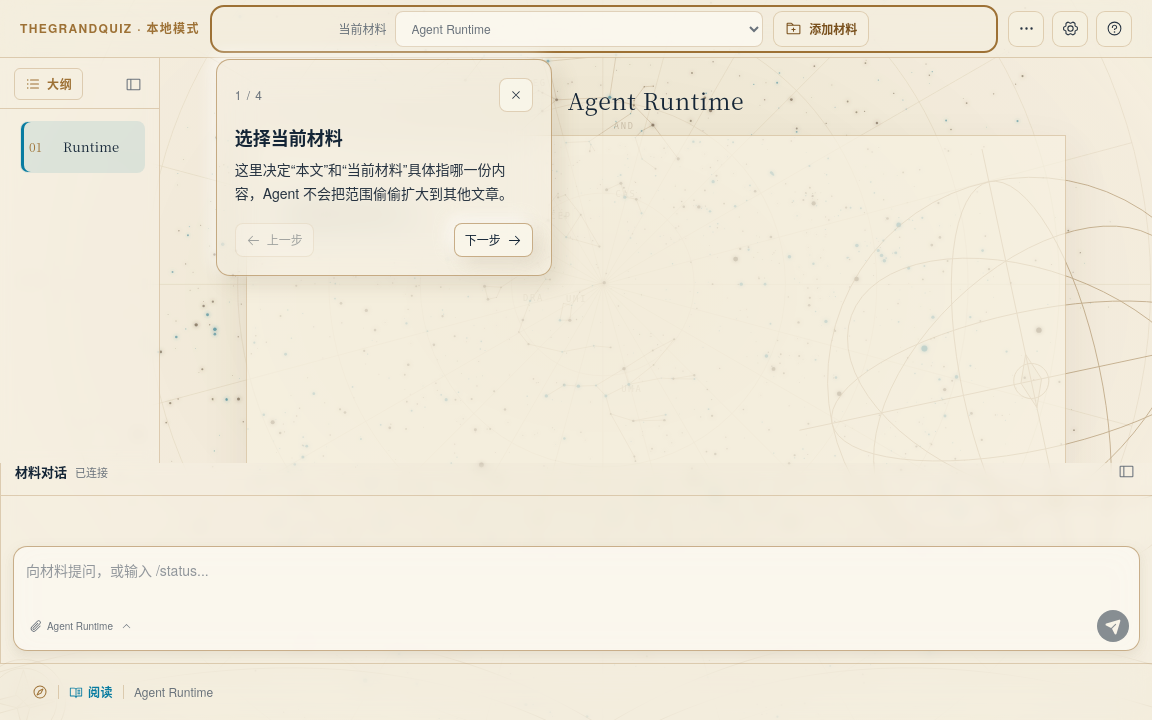
Sidebar context switching › opens the unified application settings from the top bar
(page scrolled)
expect the heading "Agent Runtime" is shown: met, box [568,83,744,117]
Click the button named "打开应用设置" at x=1070, y=28, box [1052,10,1088,46]
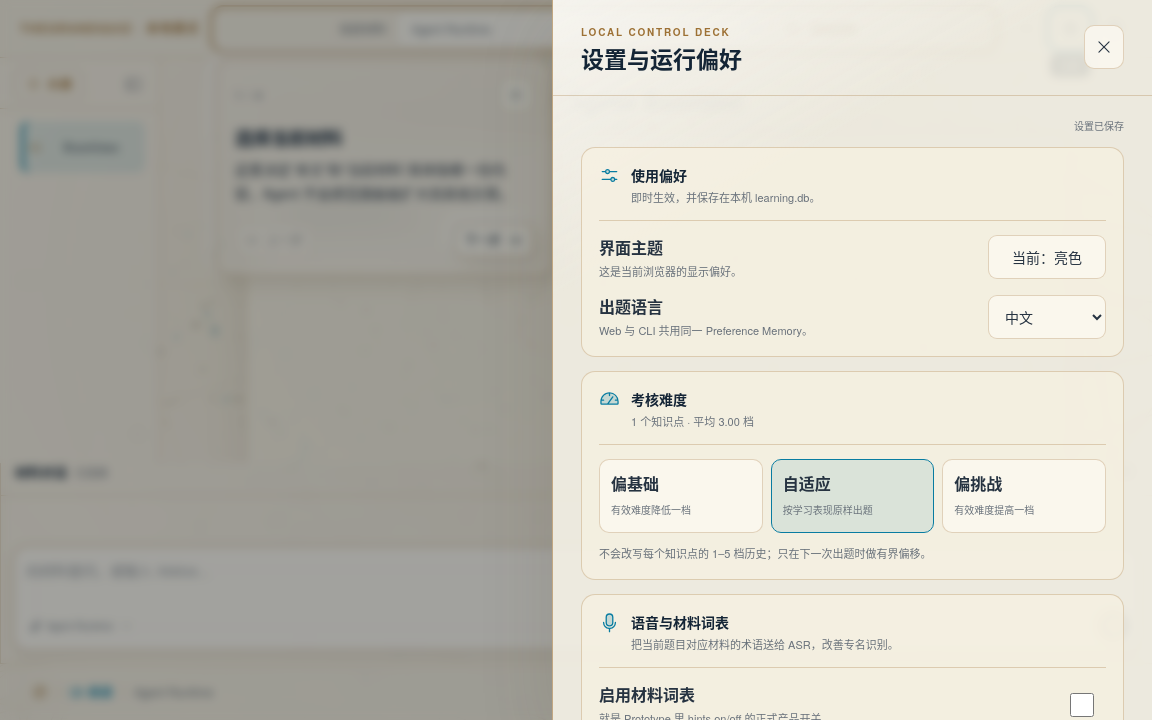
expect the dialog named "应用设置" is shown: met, box [552,0,1151,719]
